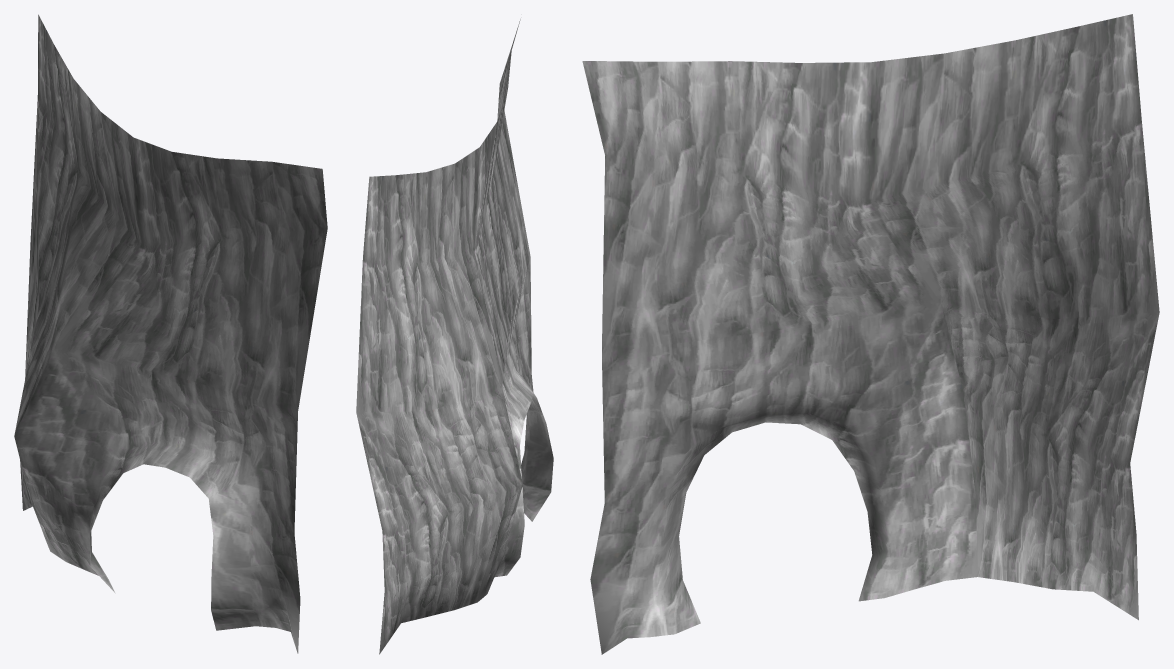
The model's file is SWORDLIGHT20_PS-AREA03_181.fbx.
3 renders of one model, left to right at view 1: azimuth 30°, elevation 25°; view 2: azimuth 150°, elevation 25°; view 3: azimuth 270°, elevation 25°, orthographic. The views are drawn at different scales.
Parts seen in each view (by area): view 1: SWORDLIGHT20_PS-AREA03_181; view 2: SWORDLIGHT20_PS-AREA03_181; view 3: SWORDLIGHT20_PS-AREA03_181.
Part boxes in pixels (bbox=[...]): SWORDLIGHT20_PS-AREA03_181: bbox=[14, 14, 327, 653]; SWORDLIGHT20_PS-AREA03_181: bbox=[356, 19, 553, 654]; SWORDLIGHT20_PS-AREA03_181: bbox=[582, 14, 1159, 654].
Size of the model in its own units: 54485 by 152829 by 130181.
1 material, 1 textured.
